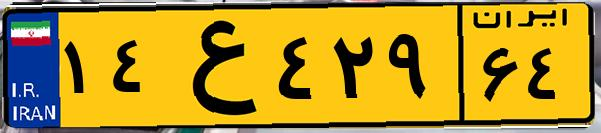1: (57, 26, 110, 100)
2: (330, 28, 385, 110)
4: (270, 28, 330, 110), (525, 38, 570, 115), (110, 28, 158, 98)
6: (475, 38, 525, 113)
9: (385, 28, 445, 110)
ع: (158, 12, 270, 120)
